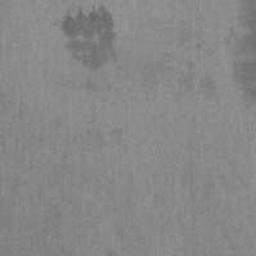Oil spot: (62, 6, 115, 68)
